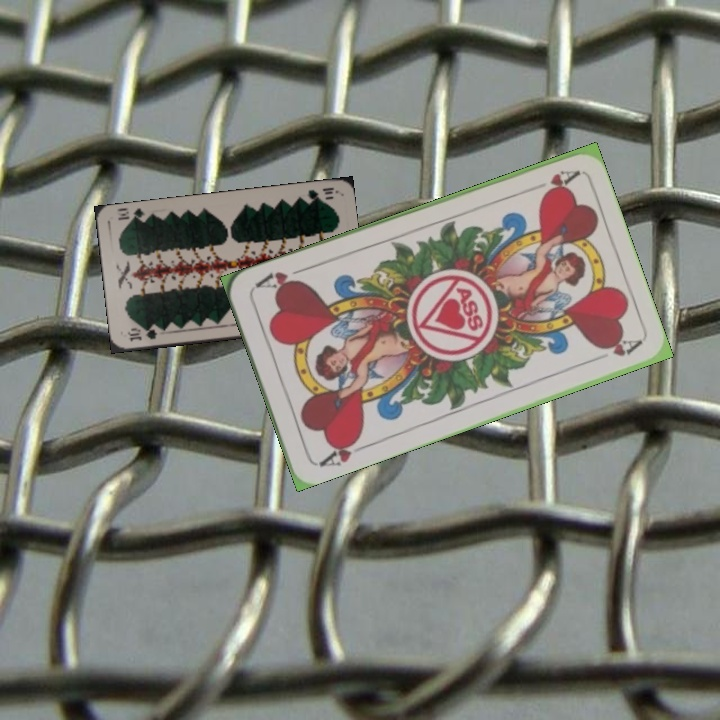G10: (303, 183, 338, 204), (123, 324, 159, 344)
HA: (314, 431, 370, 470), (539, 165, 581, 197)
